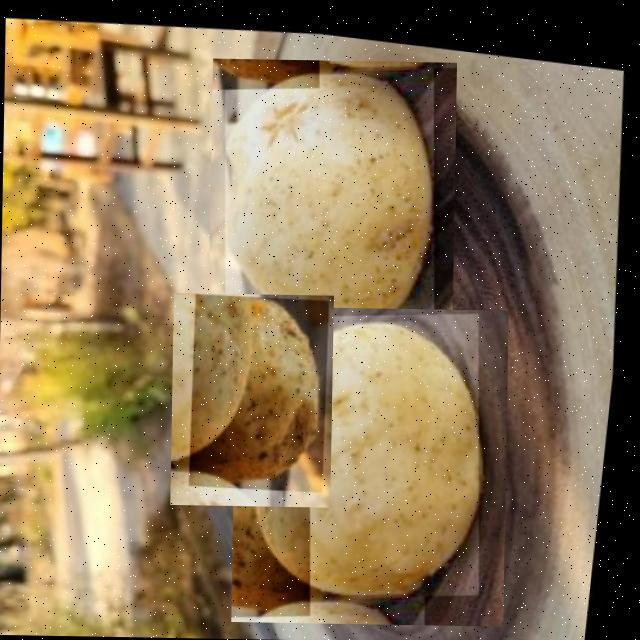Potato: (231, 304, 508, 626), (208, 57, 457, 343), (170, 292, 333, 506)
